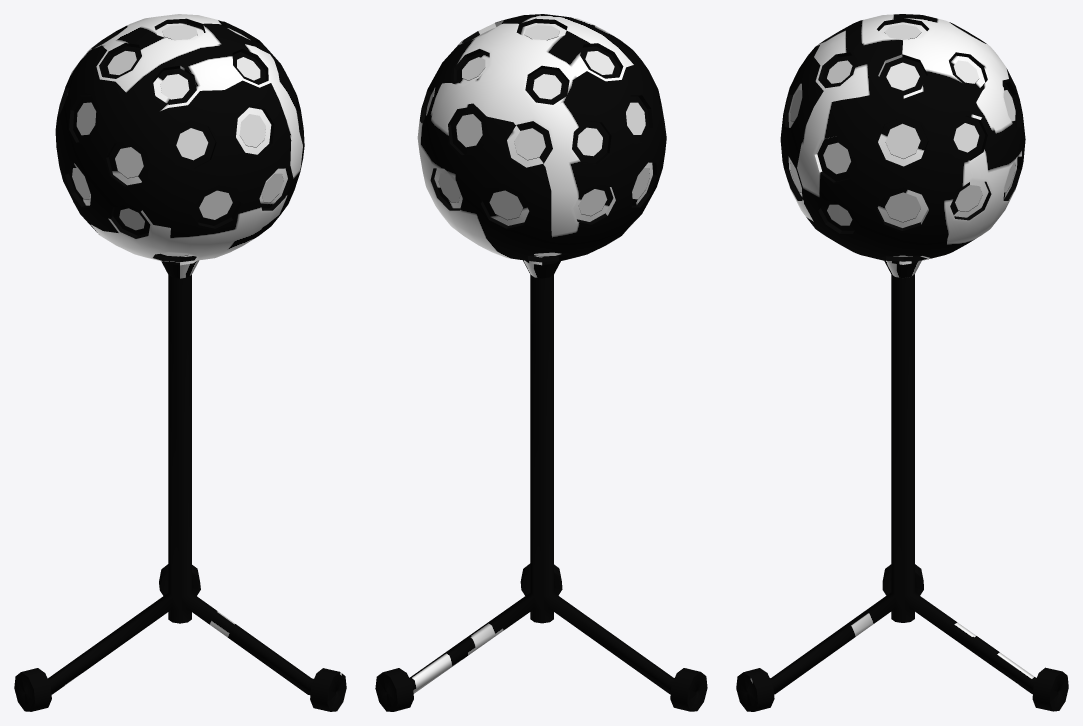
Rendered from SM_Camera2.fbx.
The picture shows the model from 3 angles, left to right: view 1: azimuth 30°, elevation 25°; view 2: azimuth 150°, elevation 25°; view 3: azimuth 270°, elevation 25°; orthographic projection.
Parts seen in each view (by area): view 1: Camera2, camera pole, wheel; view 2: Camera2, camera pole, wheel; view 3: Camera2, camera pole, wheel.
Part boxes in pixels (bbox=[...]): Camera2: bbox=[55, 14, 304, 262]; camera pole: bbox=[47, 260, 313, 694]; wheel: bbox=[14, 564, 346, 711]; Camera2: bbox=[417, 14, 666, 262]; camera pole: bbox=[409, 260, 674, 694]; wheel: bbox=[375, 563, 707, 711]; Camera2: bbox=[780, 14, 1025, 261]; camera pole: bbox=[770, 260, 1036, 694]; wheel: bbox=[736, 564, 1068, 711].
Bounding box in the file's own units: 207 × 486 × 228.
